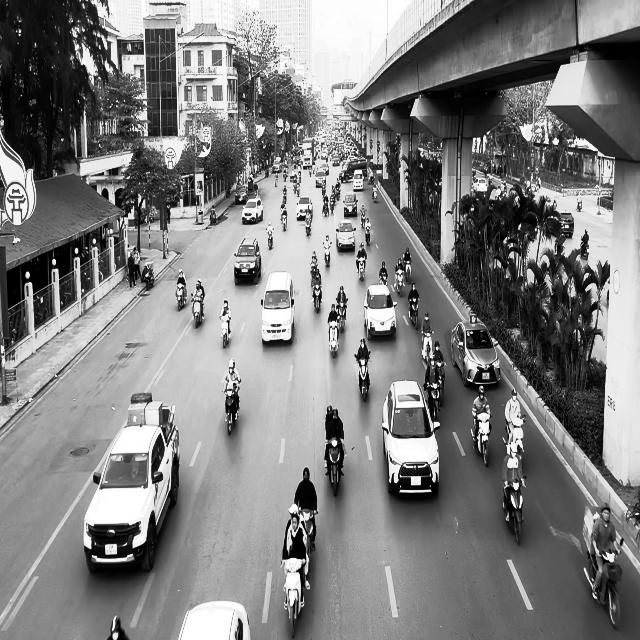car: (83, 392, 180, 573), (382, 380, 440, 496), (450, 316, 501, 387), (178, 600, 251, 640), (260, 271, 295, 344), (363, 284, 397, 340), (233, 237, 261, 285), (336, 218, 356, 250), (553, 209, 574, 238), (241, 197, 263, 224), (296, 195, 313, 220), (343, 192, 358, 216)
motorbike: (583, 537, 624, 630), (282, 558, 306, 638), (501, 475, 526, 545), (470, 412, 492, 466), (324, 437, 344, 496), (504, 414, 526, 461), (223, 382, 240, 435), (354, 351, 371, 401), (299, 508, 317, 553), (426, 380, 442, 419), (434, 361, 446, 406), (421, 330, 434, 365), (191, 294, 204, 328), (328, 320, 339, 358), (336, 298, 348, 331), (141, 262, 154, 290), (311, 280, 322, 313), (408, 297, 419, 330), (220, 315, 230, 348), (176, 283, 187, 311), (356, 254, 366, 281), (324, 242, 332, 267), (580, 238, 589, 260), (280, 207, 288, 231), (266, 227, 274, 250), (305, 214, 312, 236)
